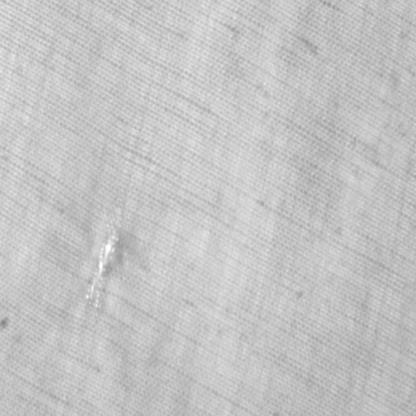hole: (82, 204, 128, 313)
